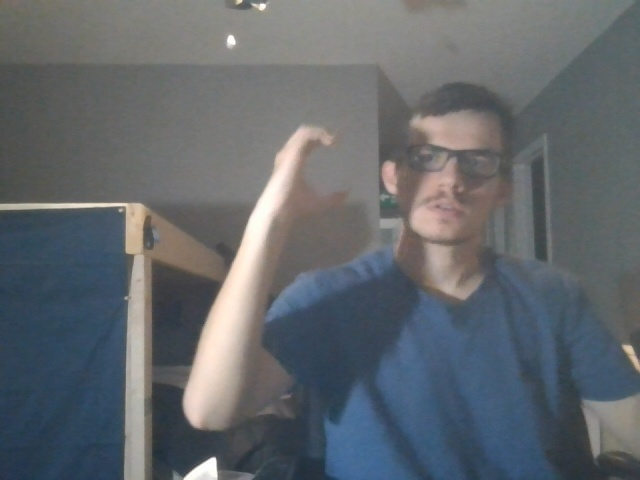C: (255, 119, 374, 225)
